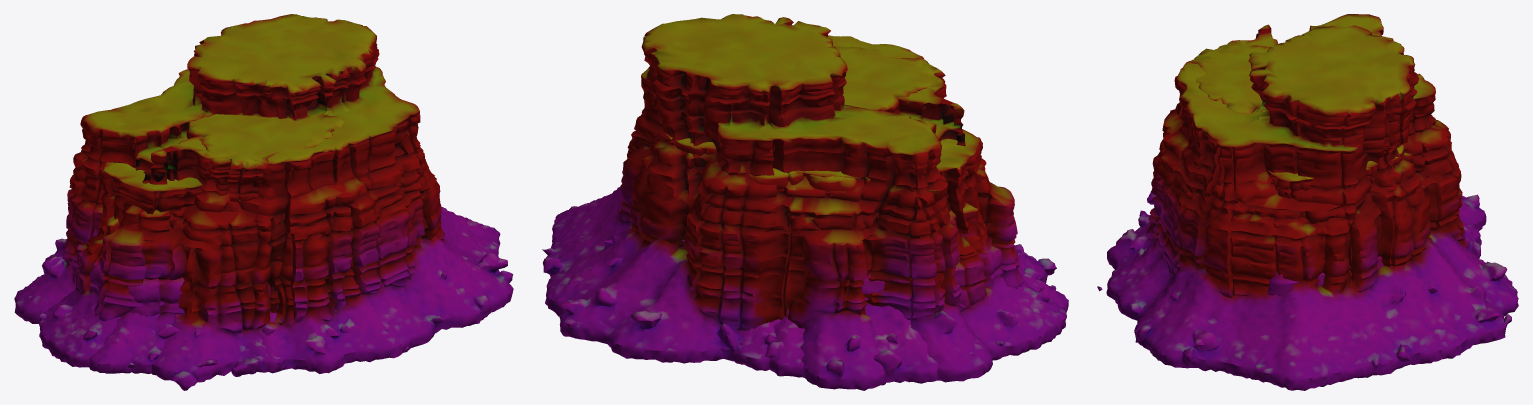
The model's file is cliffs.glb.
3 views of the same model, side by side, from view 1: azimuth 30°, elevation 25°; view 2: azimuth 150°, elevation 25°; view 3: azimuth 270°, elevation 25° (orthographic). The views are drawn at different scales.
Parts seen in each view (by area): view 1: Cliff_1, Cliff_3; view 2: Cliff_1, Cliff_3, Cliff_0; view 3: Cliff_1, Cliff_3.
Part boxes in pixels (<box>): Cliff_1: <box>14,14,513,390</box>; Cliff_3: <box>26,111,344,376</box>; Cliff_1: <box>542,14,1068,390</box>; Cliff_3: <box>663,46,1066,383</box>; Cliff_0: <box>731,168,857,370</box>; Cliff_1: <box>1097,14,1518,390</box>; Cliff_3: <box>1137,44,1481,296</box>.
Bounding box in the file's own units: 152 × 73.55 × 121.
